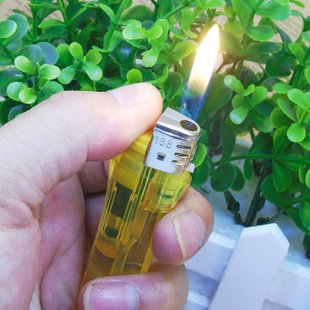Fire: (182, 24, 219, 125)
